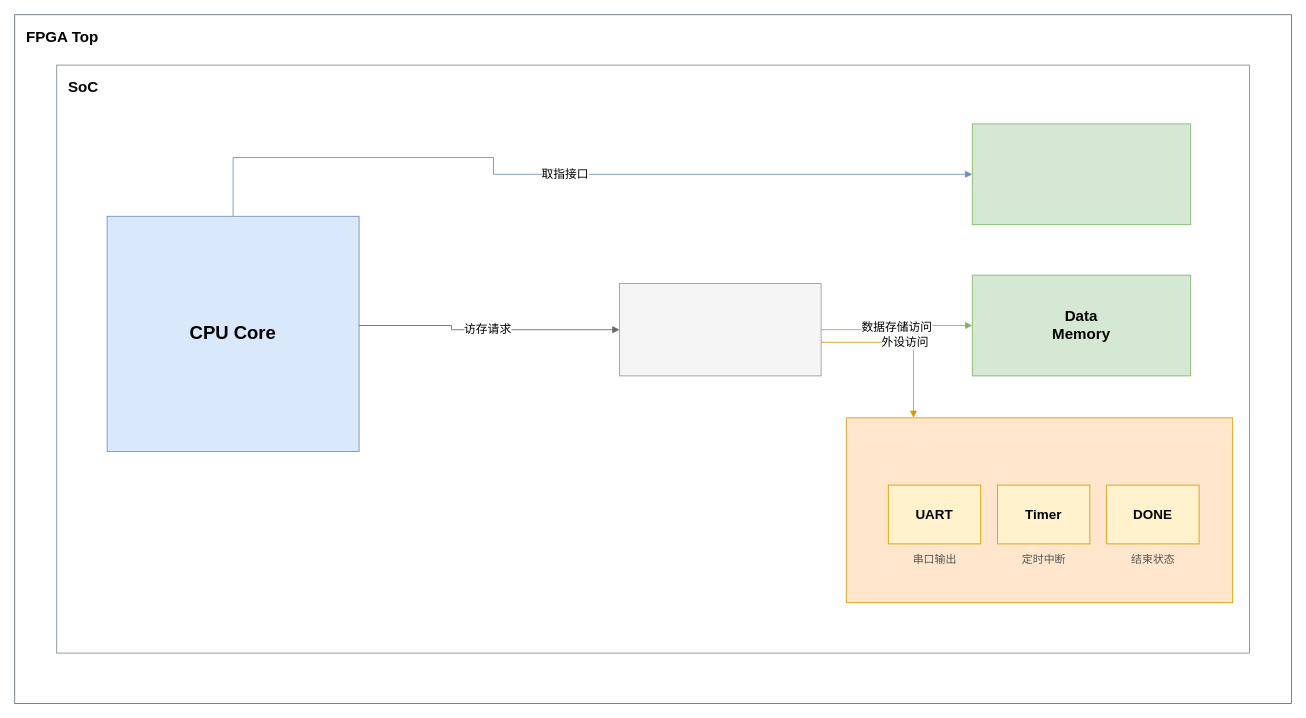
Image size: 1306x718. Some labels were removed from this diagram. Each missing label, with the box of its shape:
Address Decode: (619, 283, 821, 376)
Instruction Memory: (971, 123, 1191, 225)
MMIO Peripherals: (845, 417, 1233, 603)
